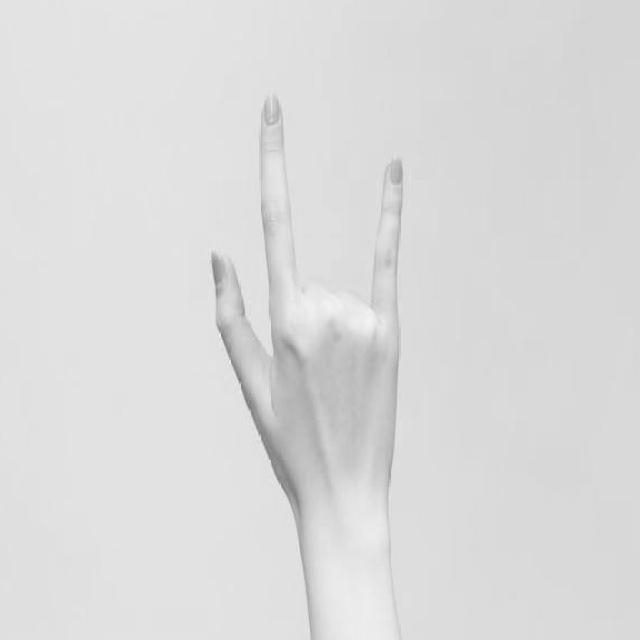i love you: (206, 84, 411, 543)
